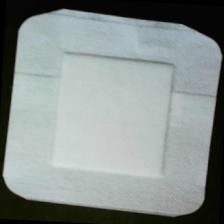Dressing: (1, 4, 224, 221)
